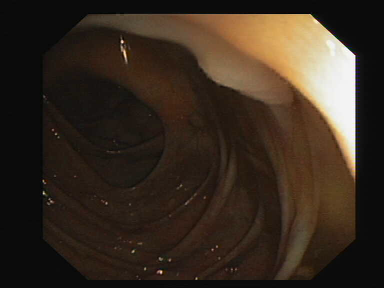polyp: (192, 39, 290, 133)
